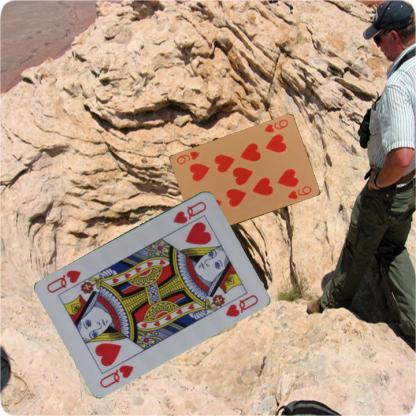9h: (262, 117, 289, 134)
Qh: (170, 198, 208, 225), (97, 362, 135, 389)
